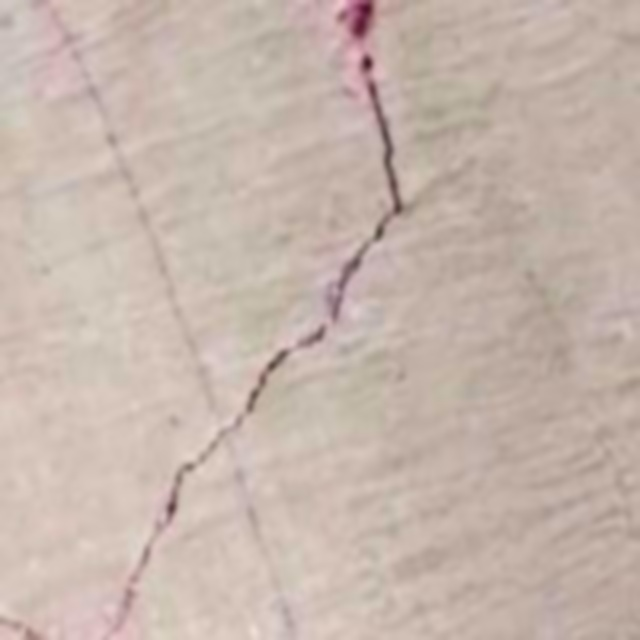SurfaceCrack: (86, 0, 454, 640)
